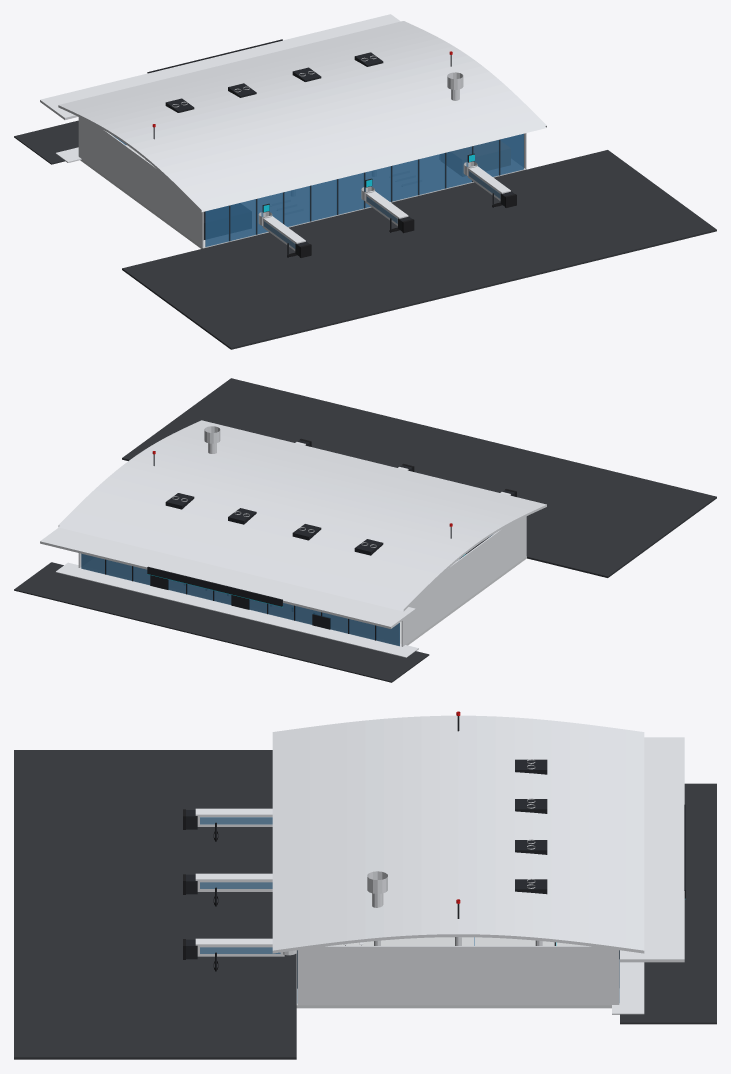
Rendered from Modern_Airport_Terminal.obj.
The picture shows the model from 3 angles, top to bottom: view 1: azimuth 30°, elevation 25°; view 2: azimuth 150°, elevation 25°; view 3: azimuth 270°, elevation 25°; orthographic projection. The views are drawn at different scales.
Visible parts, largest first — view 1: Airside_Apron_Tarmac, Terminal_Wave_Canopy, Curtain_Glass_Airside, Wall_West_Composite, Dropoff_Canopy_Overhang, Landside_Viaduct_Road, Terminal_Base_Slab, Jetway_Tunnel_1, Jetway_Tunnel_2, Jetway_Tunnel_0; view 2: Terminal_Wave_Canopy, Airside_Apron_Tarmac, Landside_Viaduct_Road, Dropoff_Canopy_Overhang, Wall_West_Composite, Entrance_Sidewalk_Curb, Curtain_Glass_Landside, Dropoff_Signage_Banner; view 3: Terminal_Wave_Canopy, Airside_Apron_Tarmac, Wall_East_Composite, Landside_Viaduct_Road, Dropoff_Canopy_Overhang, Terminal_Base_Slab, Jetway_Tunnel_2, Jetway_Tunnel_0, Jetway_Tunnel_1, Entrance_Sidewalk_Curb, Jetway_Glass_Ribbon_R_0.
Part boxes in pixels (left/top/right/bottom): Airside_Apron_Tarmac: left=122, top=150, right=716, bottom=349; Terminal_Wave_Canopy: left=58, top=21, right=546, bottom=212; Curtain_Glass_Airside: left=205, top=133, right=523, bottom=246; Wall_West_Composite: left=78, top=117, right=203, bottom=247; Dropoff_Canopy_Overhang: left=40, top=14, right=400, bottom=119; Landside_Viaduct_Road: left=14, top=120, right=78, bottom=164; Terminal_Base_Slab: left=80, top=147, right=526, bottom=248; Jetway_Tunnel_1: left=365, top=190, right=408, bottom=225; Jetway_Tunnel_2: left=467, top=165, right=510, bottom=200; Jetway_Tunnel_0: left=262, top=215, right=305, bottom=250; Terminal_Wave_Canopy: left=58, top=420, right=546, bottom=611; Airside_Apron_Tarmac: left=122, top=378, right=716, bottom=577; Landside_Viaduct_Road: left=14, top=562, right=429, bottom=682; Dropoff_Canopy_Overhang: left=40, top=527, right=415, bottom=628; Wall_West_Composite: left=401, top=516, right=526, bottom=646; Entrance_Sidewalk_Curb: left=56, top=562, right=418, bottom=657; Curtain_Glass_Landside: left=81, top=553, right=399, bottom=646; Dropoff_Signage_Banner: left=147, top=566, right=282, bottom=606; Terminal_Wave_Canopy: left=272, top=715, right=644, bottom=953; Airside_Apron_Tarmac: left=14, top=750, right=296, bottom=1059; Wall_East_Composite: left=297, top=946, right=619, bottom=1005; Landside_Viaduct_Road: left=620, top=783, right=716, bottom=1024; Dropoff_Canopy_Overhang: left=620, top=737, right=684, bottom=962; Terminal_Base_Slab: left=296, top=937, right=611, bottom=1008; Jetway_Tunnel_2: left=195, top=938, right=284, bottom=956; Jetway_Tunnel_0: left=195, top=808, right=272, bottom=826; Jetway_Tunnel_1: left=195, top=873, right=272, bottom=891; Entrance_Sidewalk_Curb: left=612, top=959, right=644, bottom=1014; Jetway_Glass_Ribbon_R_0: left=200, top=817, right=272, bottom=824.
Bounding box in the file's own units: 180 × 29.2 × 174.
